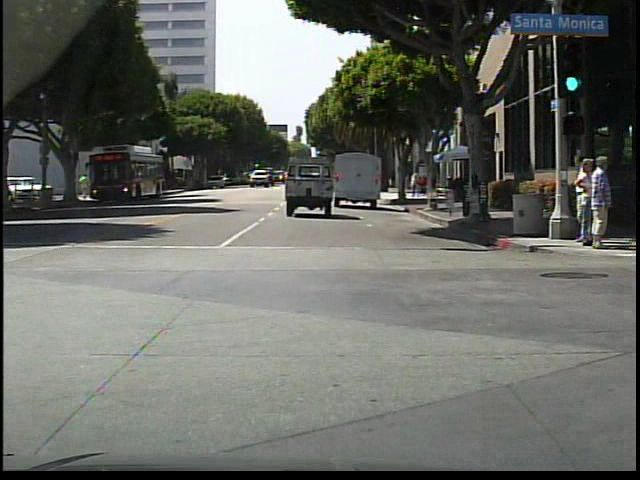person: (582, 153, 617, 256), (571, 151, 592, 248), (577, 157, 597, 247), (80, 171, 90, 201), (410, 171, 420, 196), (70, 176, 79, 201), (405, 169, 412, 197)
